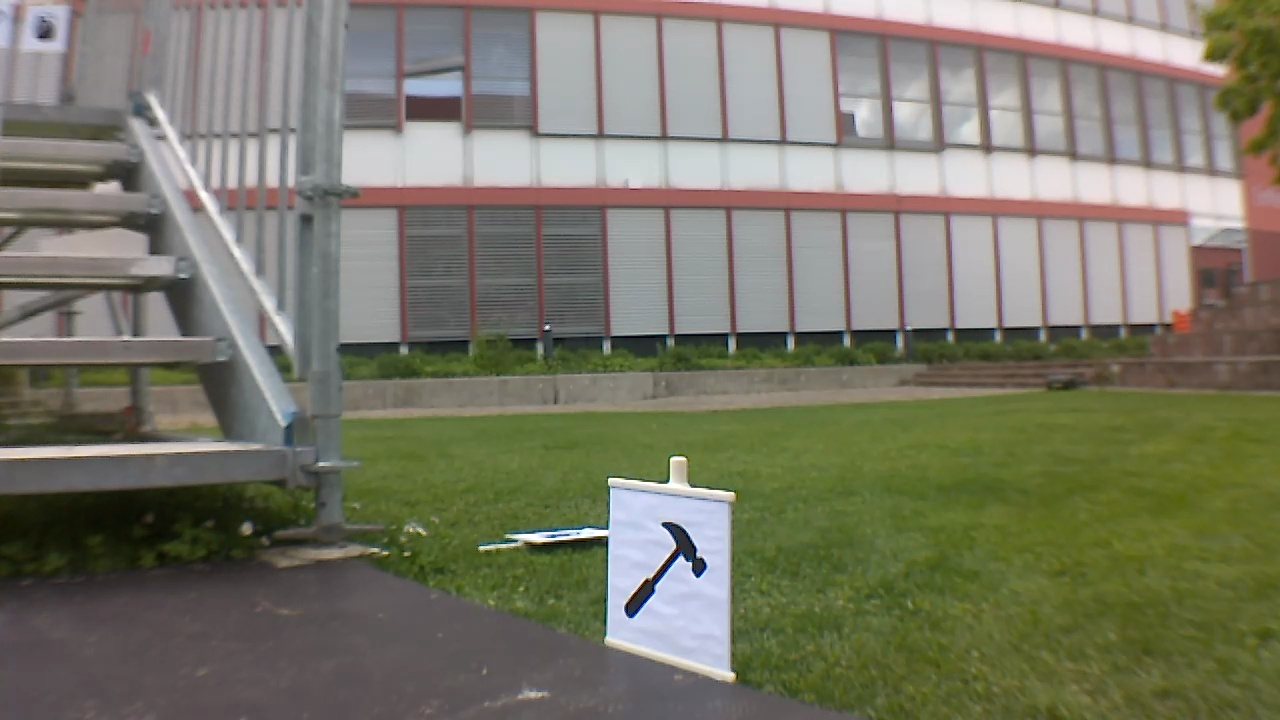bucket: (28, 11, 59, 43)
edge: (1, 449, 278, 489), (3, 338, 237, 361), (1, 252, 189, 276), (3, 187, 159, 214), (3, 138, 138, 162), (2, 99, 118, 125)
hammer: (617, 511, 718, 629)
stairs: (0, 2, 358, 553)
steps: (2, 86, 297, 502)
